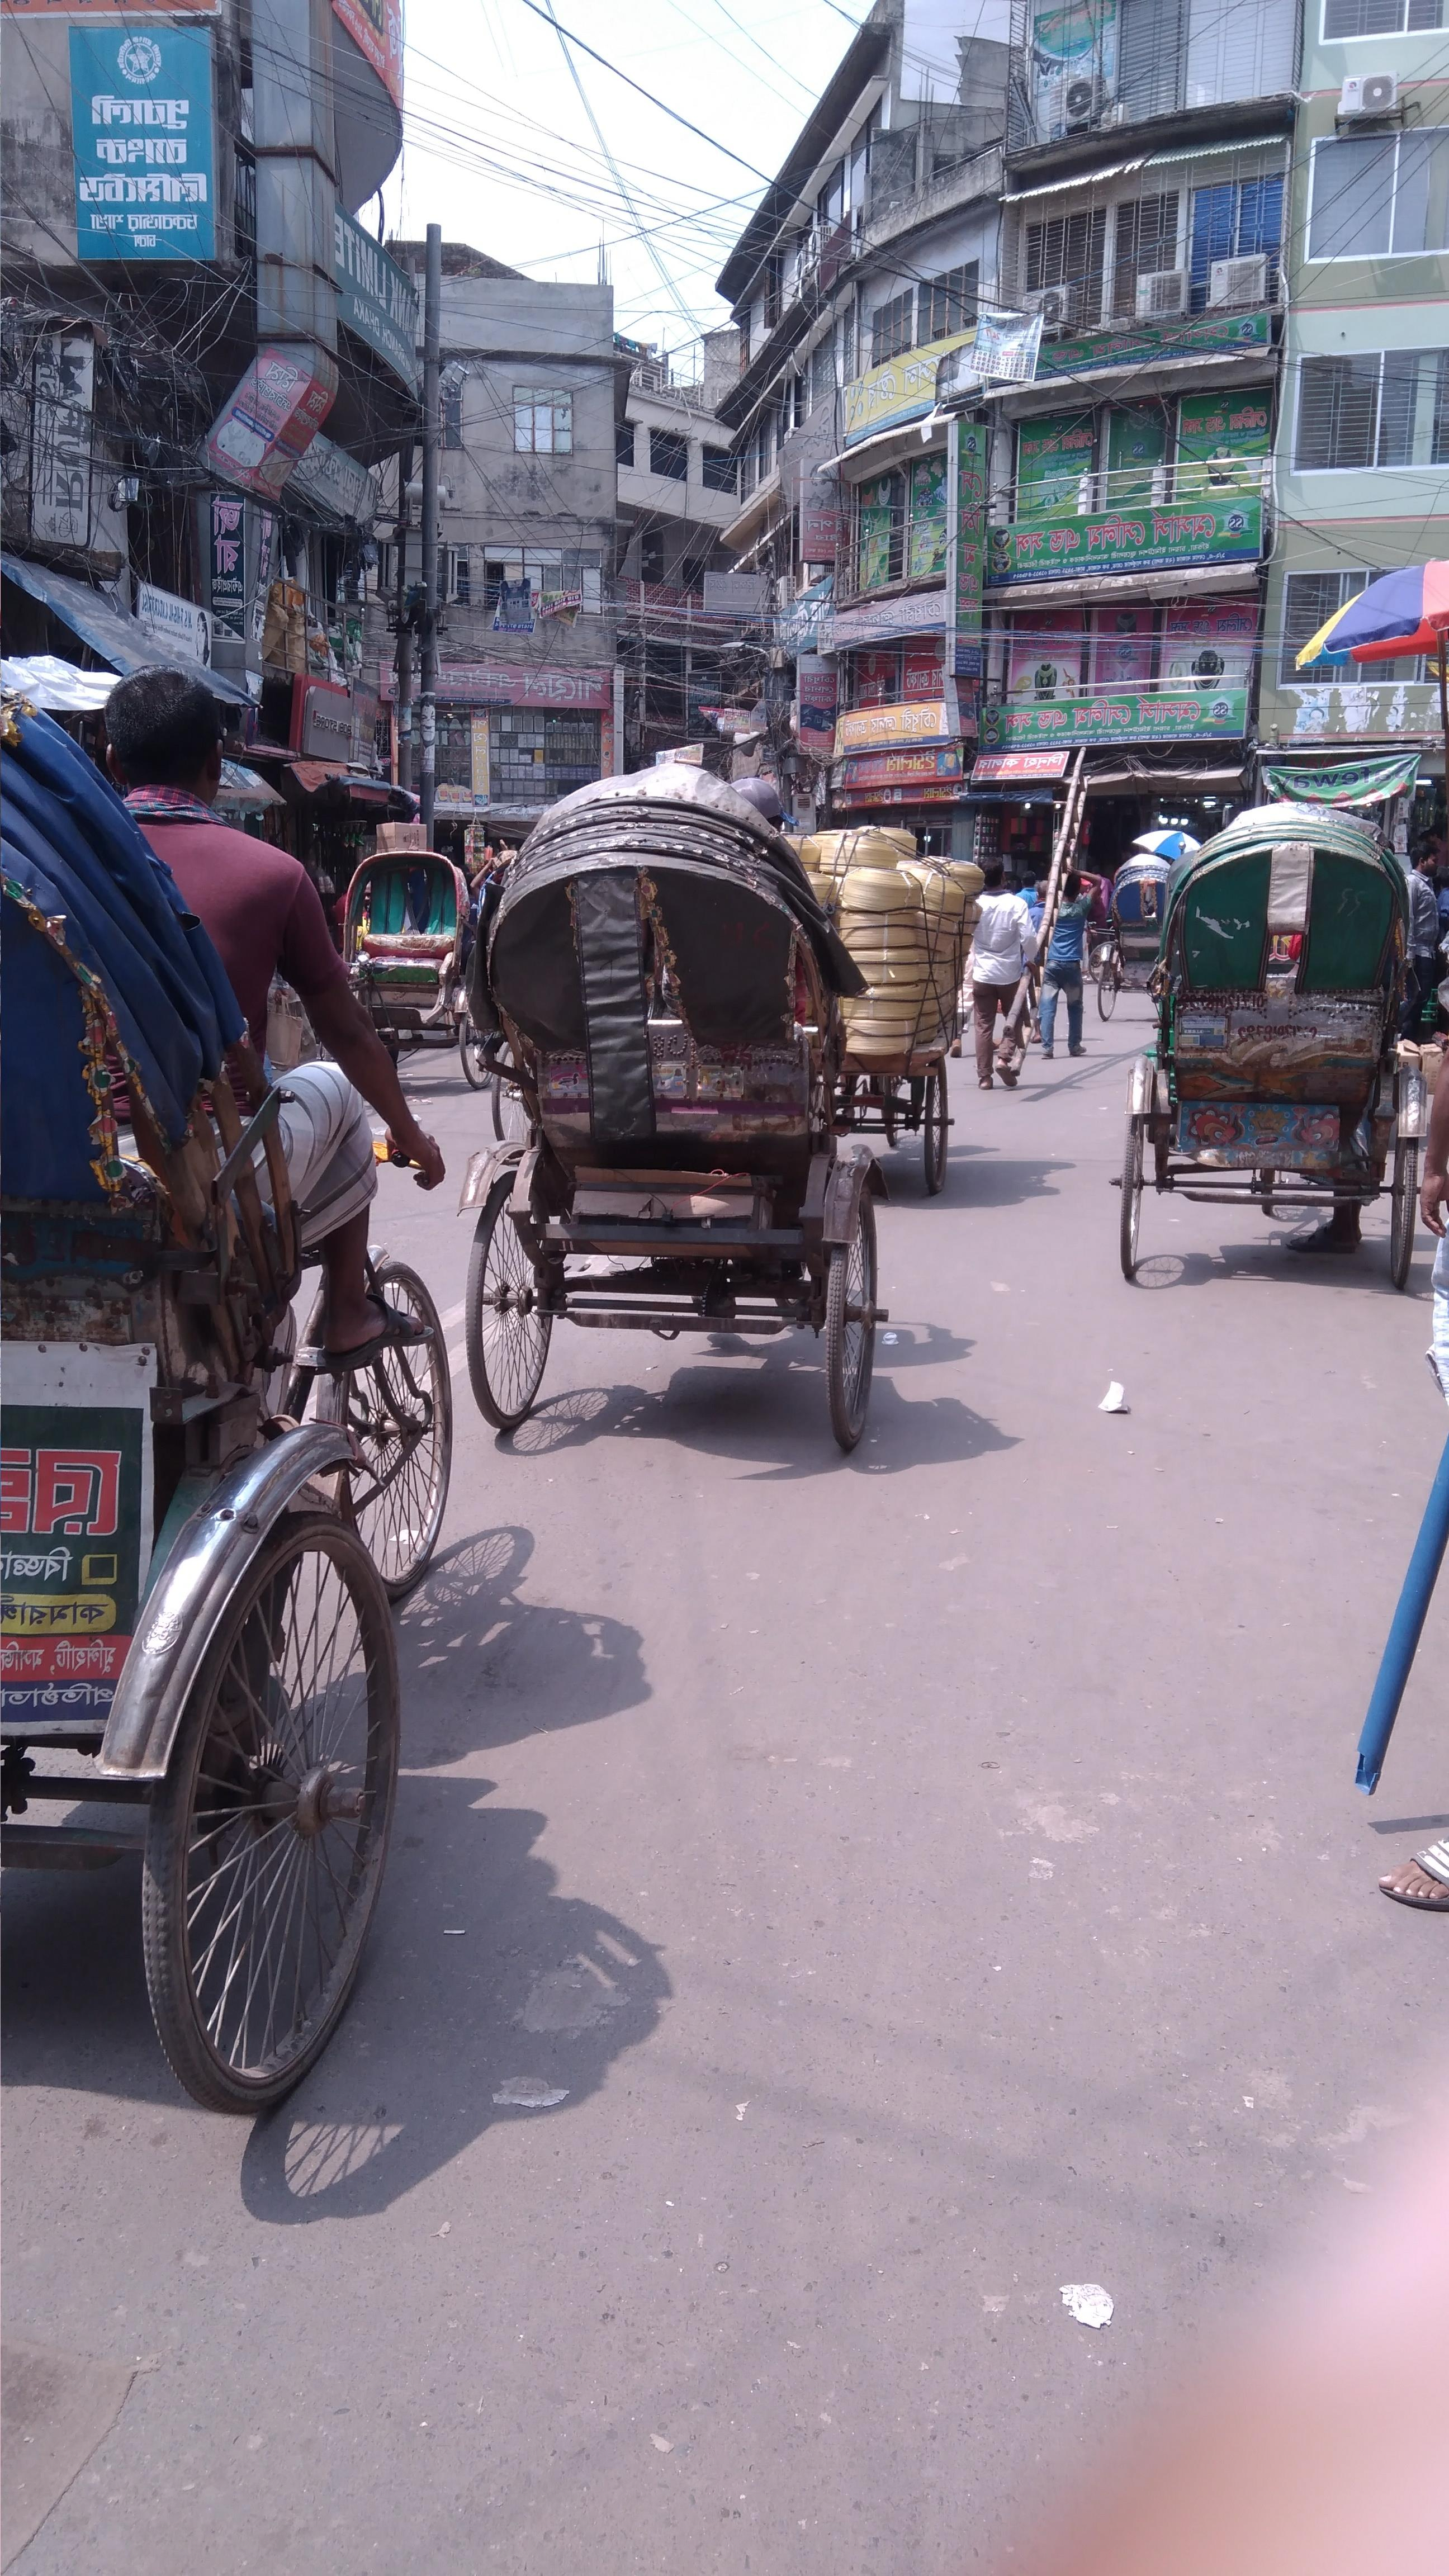Rickshaw: (12, 667, 448, 2072), (494, 757, 915, 1484), (1062, 764, 1433, 1384), (331, 823, 506, 1056)
